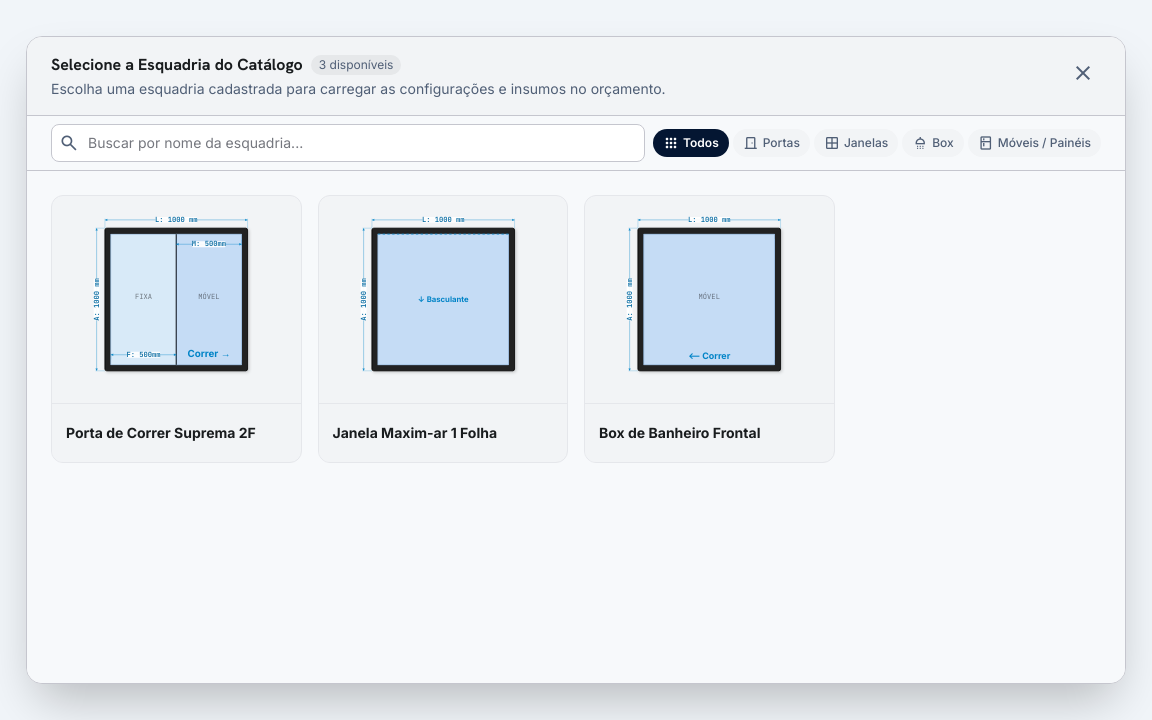
Test: ProductPickerModal (Modal de Seleção de Esquadria Pré-Cadastrada) › deve filtrar os produtos ao alternar entre as abas de categoria
Clicar na aba Janelas
Click the button "Janelas" at point(856, 143), box [814,129,898,157]
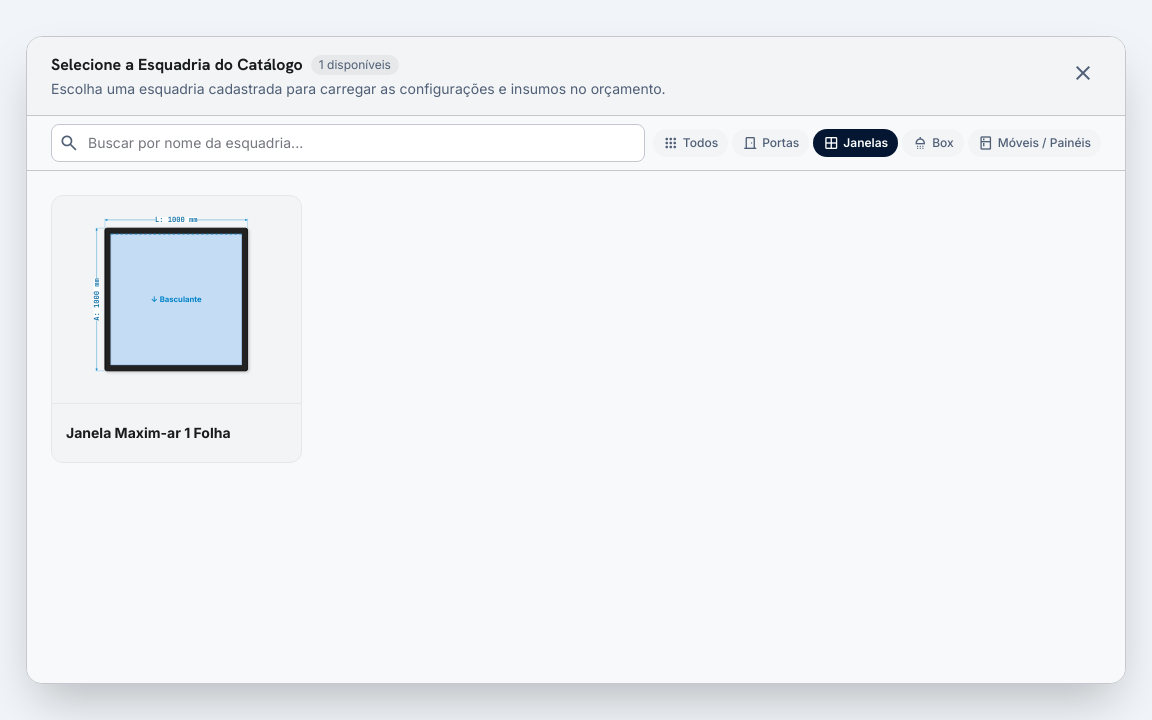
Check: the heading "Janela Maxim-ar 1 Folha" is shown, box [66,423,231,443]
Check: the button "Porta de Correr Suprema 2F" is gone
Check: the button "Box de Banheiro Frontal" is gone
Clicar na aba Box
Click the button "Box" at point(933, 143), box [902,129,964,157]
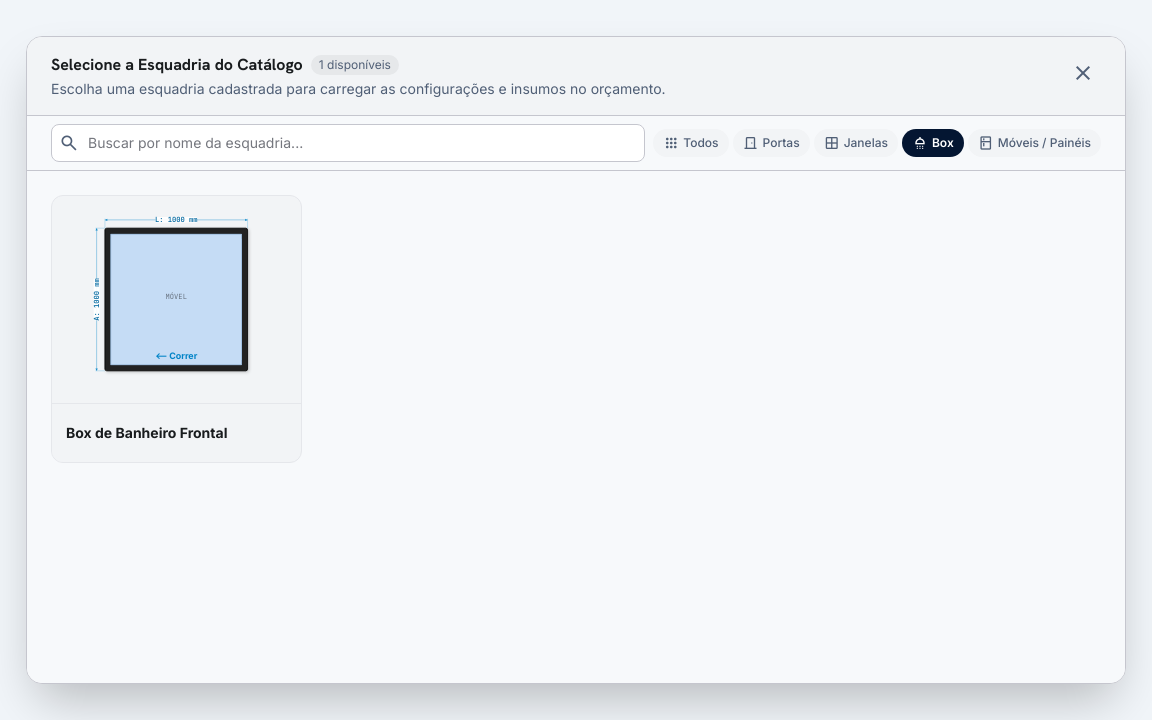
Check: the heading "Box de Banheiro Frontal" is shown, box [66,423,227,443]
Check: the button "Janela Maxim-ar 1 Folha" is gone
